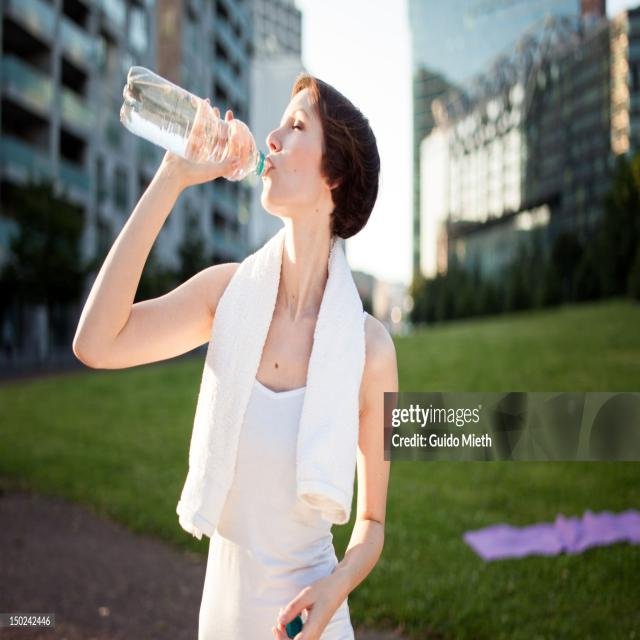bottle: (118, 64, 269, 190)
